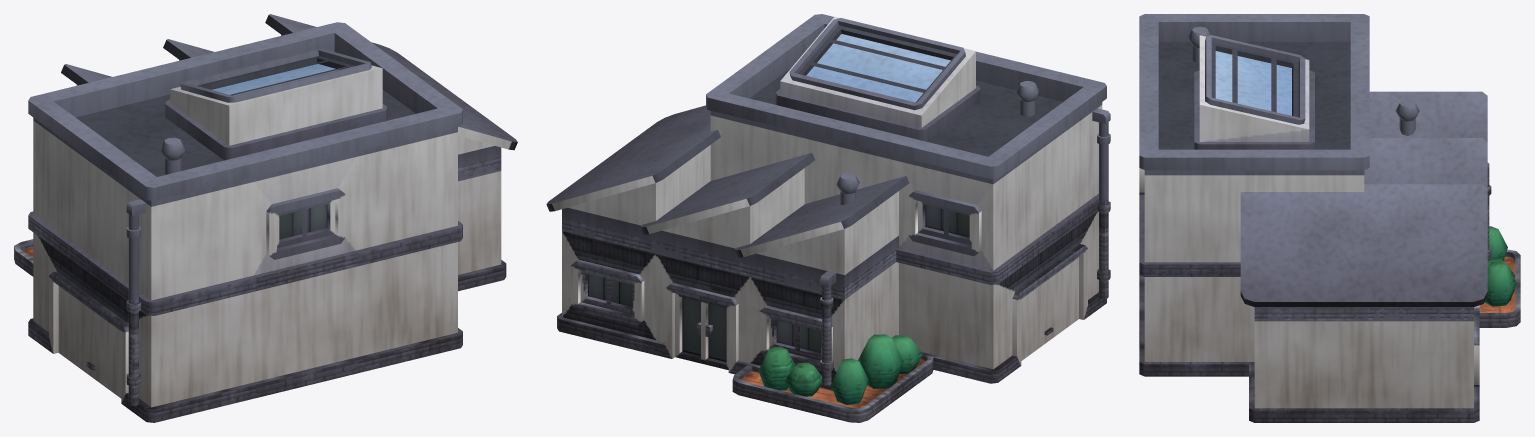
File: building-t-white.glb
The picture shows the model from 3 angles, left to right: view 1: azimuth 30°, elevation 25°; view 2: azimuth 150°, elevation 25°; view 3: azimuth 270°, elevation 25°; orthographic projection. The views are drawn at different scales.
Parts seen in each view (by area): view 1: building-t; view 2: building-t; view 3: building-t.
Part boxes in pixels (bbox=[...]): building-t: bbox=[14, 14, 517, 422]; building-t: bbox=[546, 14, 1110, 422]; building-t: bbox=[1139, 14, 1520, 422].
Bounding box in the file's own units: 1.72 × 1.01 × 1.39.
Materials: 1 (1 with a texture image).
